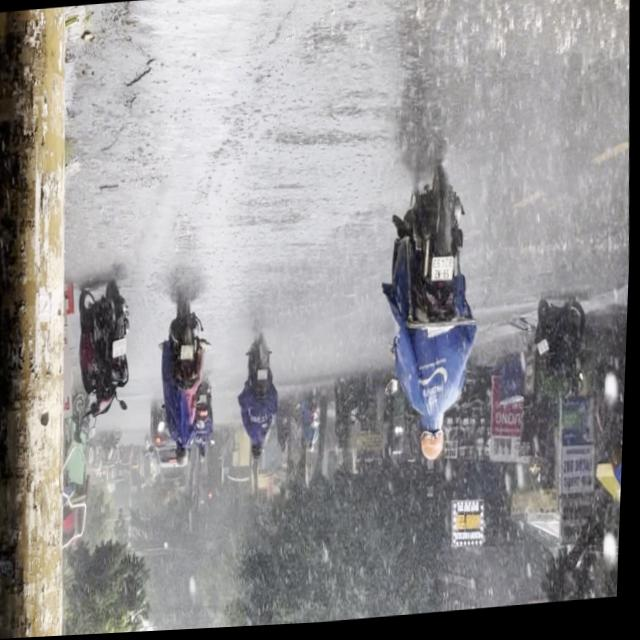helmet: (421, 422, 449, 466), (178, 447, 192, 470)
licenseplate: (376, 162, 489, 472), (157, 299, 218, 474)
nohelmet: (432, 261, 457, 287), (183, 347, 195, 362)
